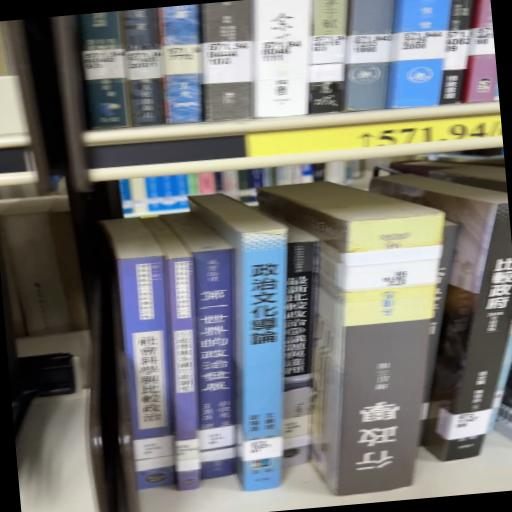reverse: (260, 184, 445, 496)
